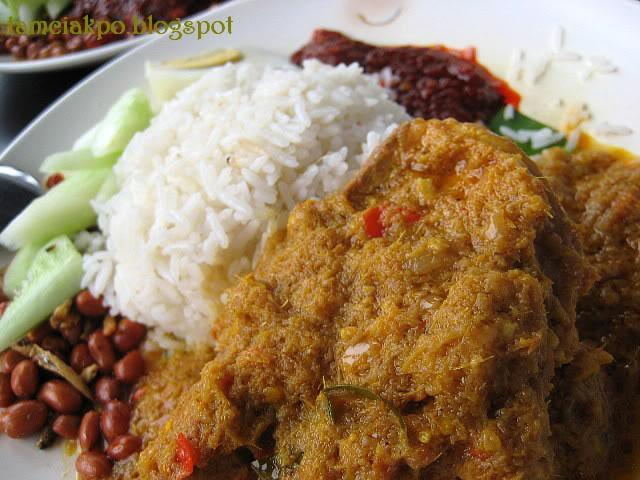Boiled-Egg: (150, 49, 269, 112)
Cucumber: (0, 90, 150, 354)
Fried-Chicken: (132, 120, 640, 480)
Peanuts: (0, 290, 146, 480)
Rice: (81, 61, 411, 351)
Sambal: (291, 29, 522, 128)
